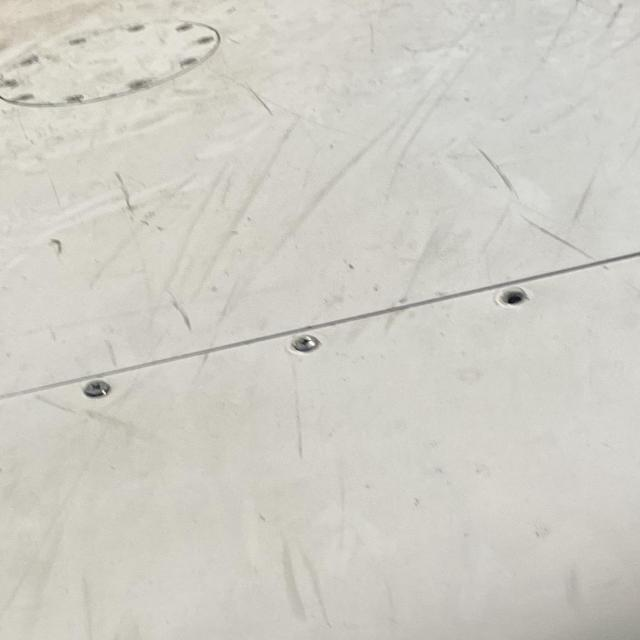Missing-head: (498, 288, 528, 306)
